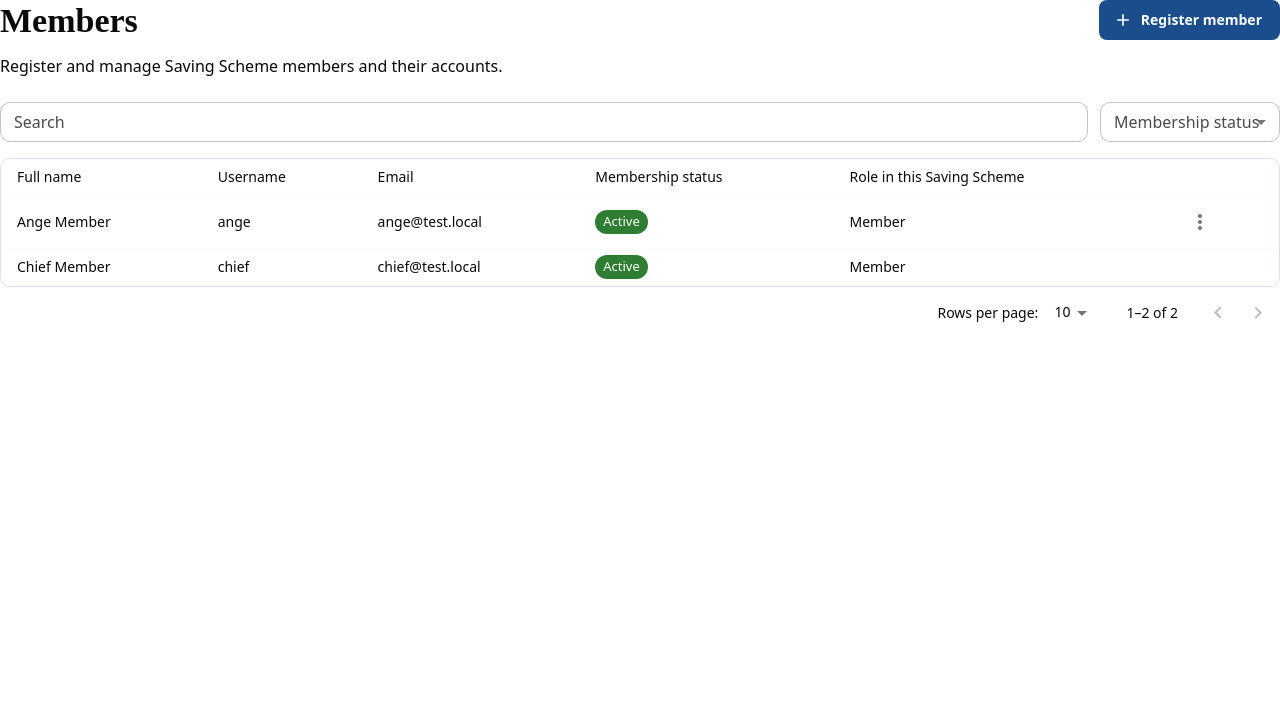
it: members list actions › gives leadership an accessibly named actions menu per member, but none for themselves
Click the button named "Actions for Ange Member": (1200, 222) left=1180, top=202, right=1220, bottom=242
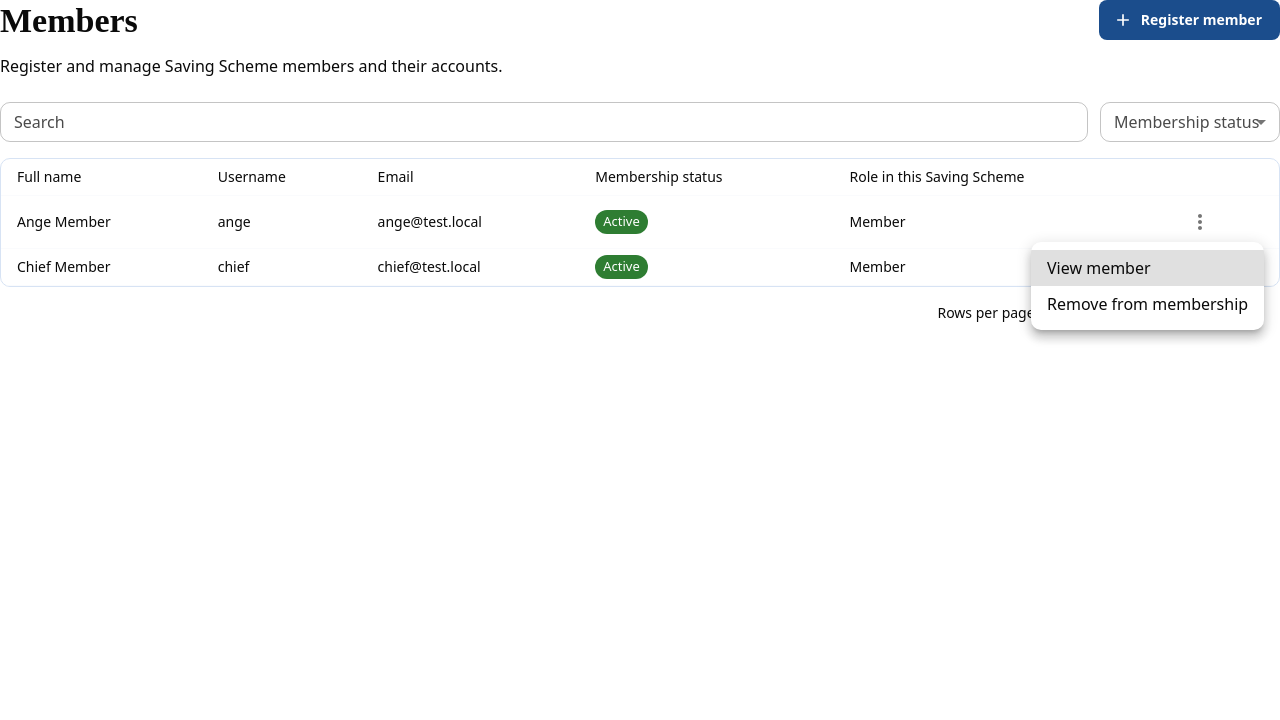
Now the menu item "View member" is shown, box left=1031, top=250, right=1264, bottom=286
Click the menu item "Remove from membership": (1148, 304) left=1031, top=286, right=1264, bottom=322
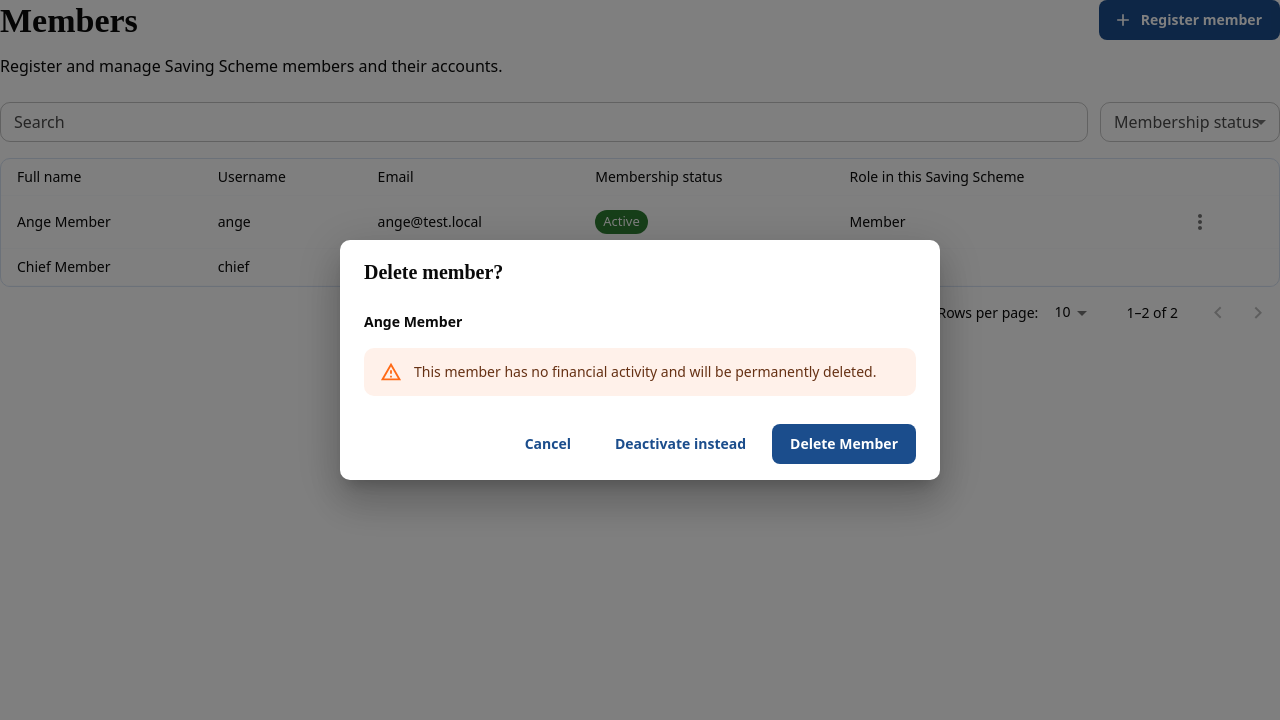
Now the heading "Delete member?" is shown, box left=364, top=261, right=503, bottom=283
